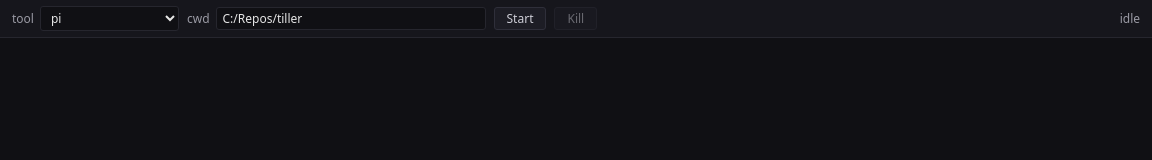
Scenario: TerminalPanel tool dropdown › cmd preset spawns cmd.exe and locks the toolbar while running
The width and height of the screenshot is (1152, 160).
Select "Command Prompt" in the dropdown with test id "terminal-tool". click: (110, 18)
box: top-left (40, 6), bottom-right (179, 31)
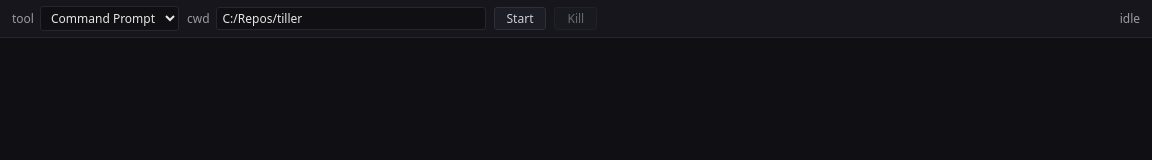
Replace the text in the field with test id "terminal-cwd" with "C:/tmp/project". click: (350, 18)
box: top-left (216, 7), bottom-right (486, 30)
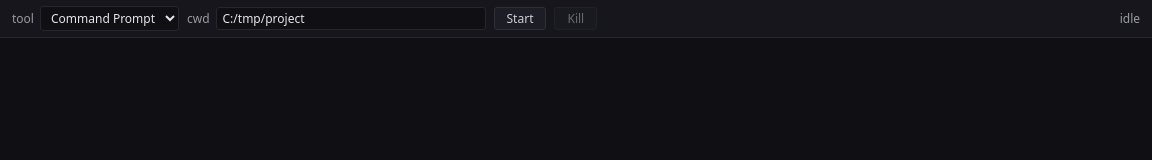
Click the button with test id "terminal-start". click: (520, 18)
box: top-left (494, 7), bottom-right (546, 30)
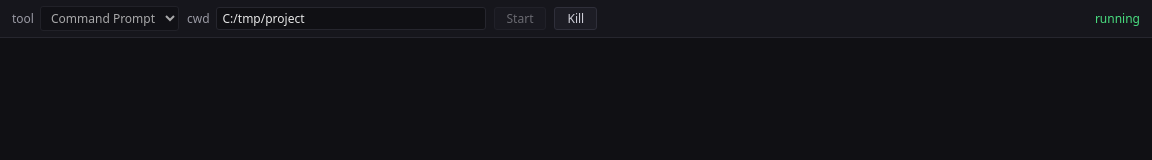
Expected: the text with test id "terminal-status" reads "running", top-left (1095, 10), bottom-right (1140, 27)
Expected: the dropdown with test id "terminal-tool" is disabled, top-left (40, 6), bottom-right (179, 31)
